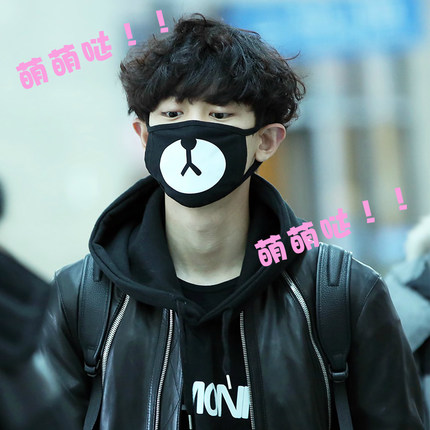face_mask: (144, 102, 248, 206)
